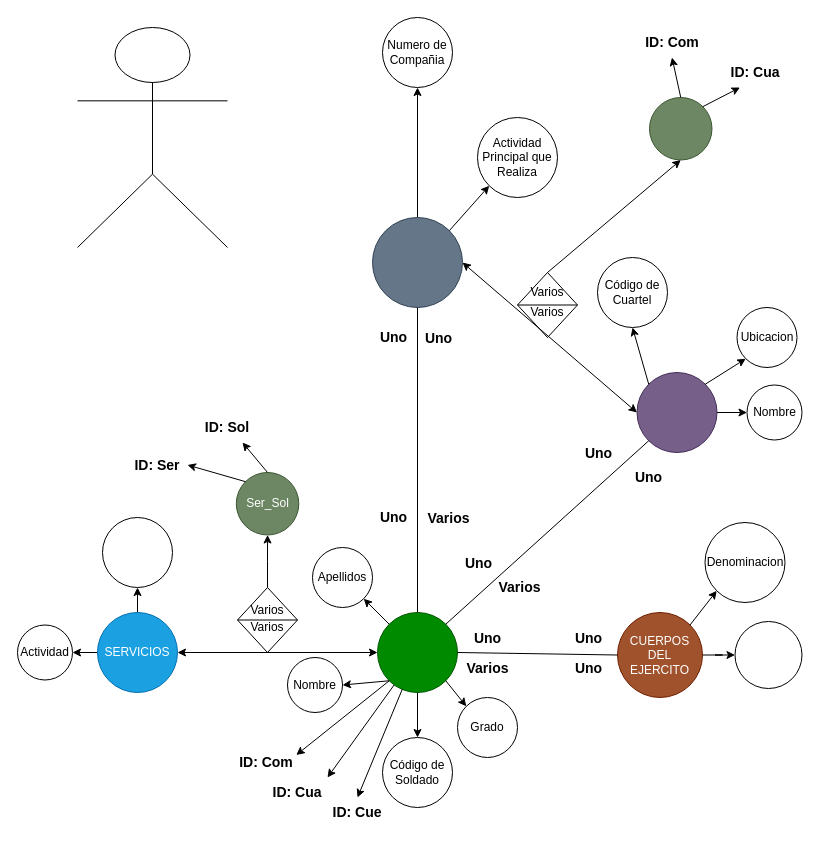
This 820x845 diagram has some shape labels left out. The box of each missing label's shape, as (x1, y1, x2, y2) in pixels:
Com_Cua: (648, 96, 712, 160)
COMPAÑIAS: (372, 216, 462, 308)
CUARTELES: (636, 372, 717, 452)
Código de Cuerpo: (734, 620, 802, 688)
Código de Servicio: (102, 516, 172, 588)
Pepito: (76, 26, 228, 248)
SOLDADO: (376, 612, 458, 692)
